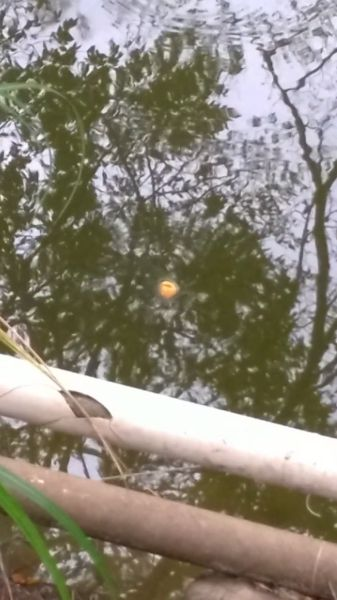eggs: (157, 276, 183, 299)
